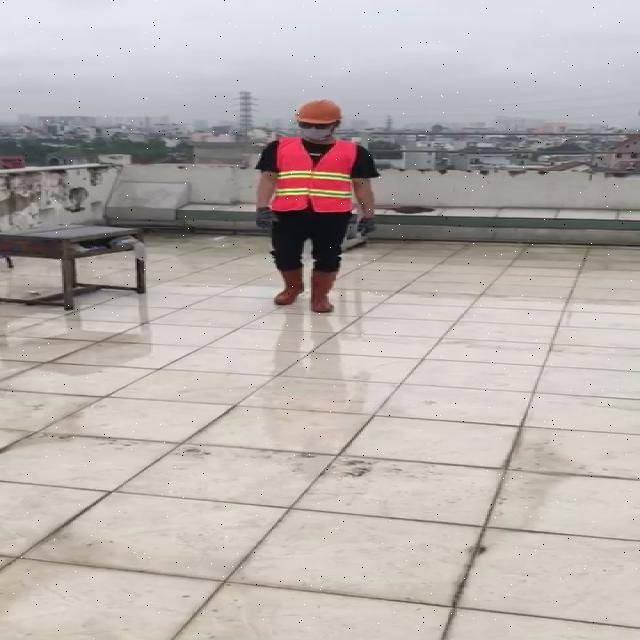Hard_hat: (290, 96, 347, 129)
Vest: (270, 135, 357, 215)
